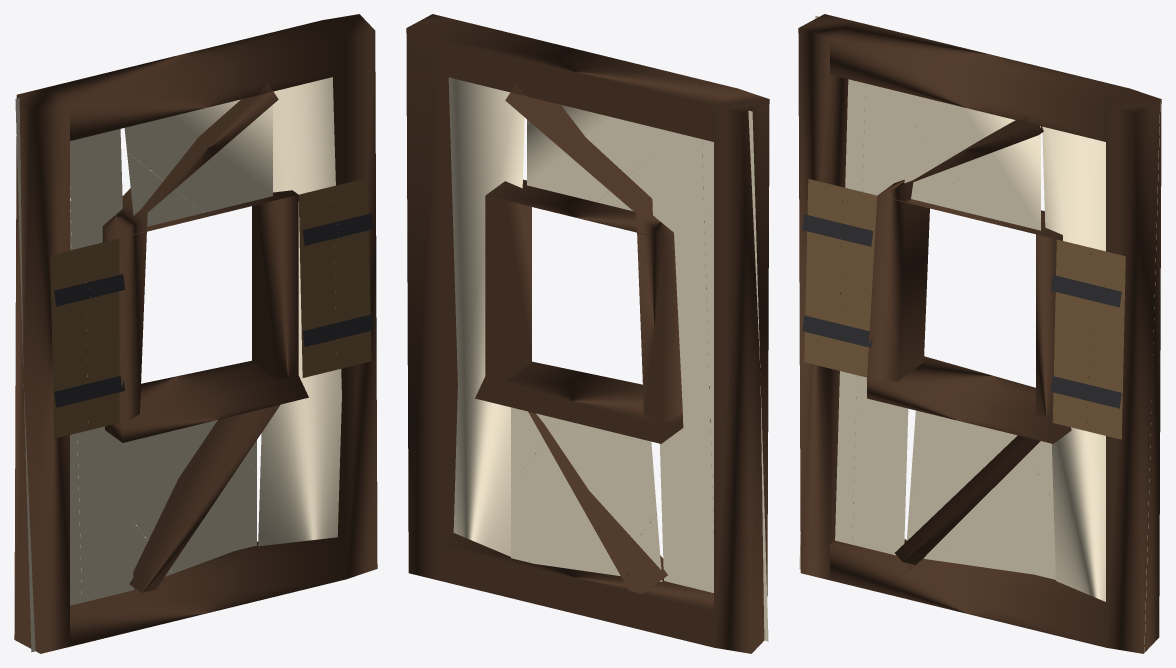
Rendered from wall_plaster_window_lod1.glb.
The picture shows the model from 3 angles, left to right: view 1: azimuth 30°, elevation 25°; view 2: azimuth 150°, elevation 25°; view 3: azimuth 330°, elevation 25°; orthographic projection.
Bounding box in the file's own units: 2 × 3 × 0.4.
